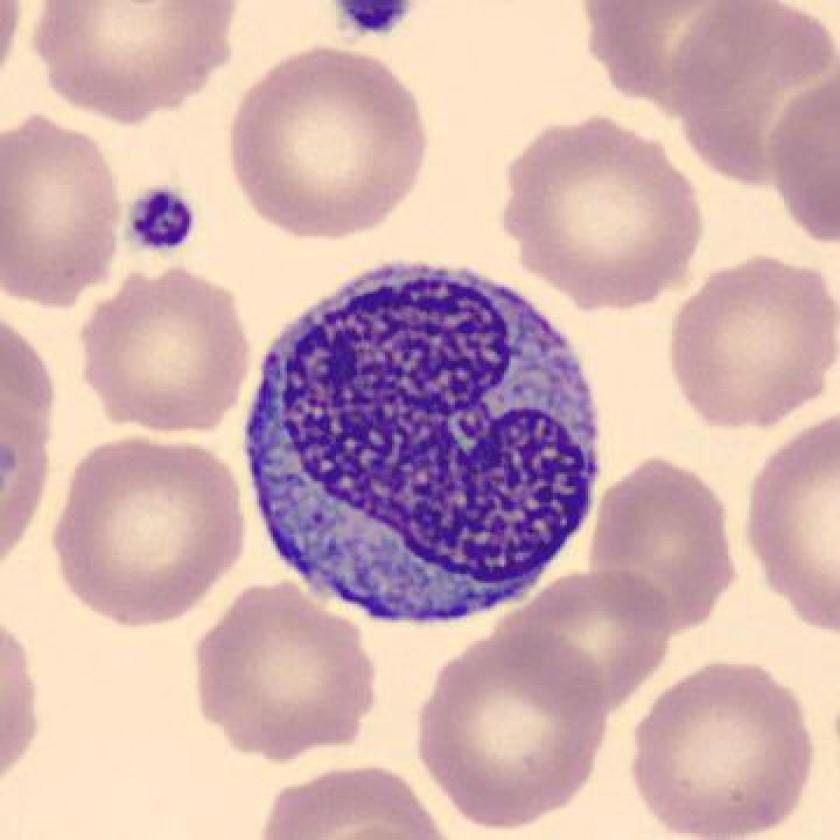monocyte: (213, 242, 624, 651)
